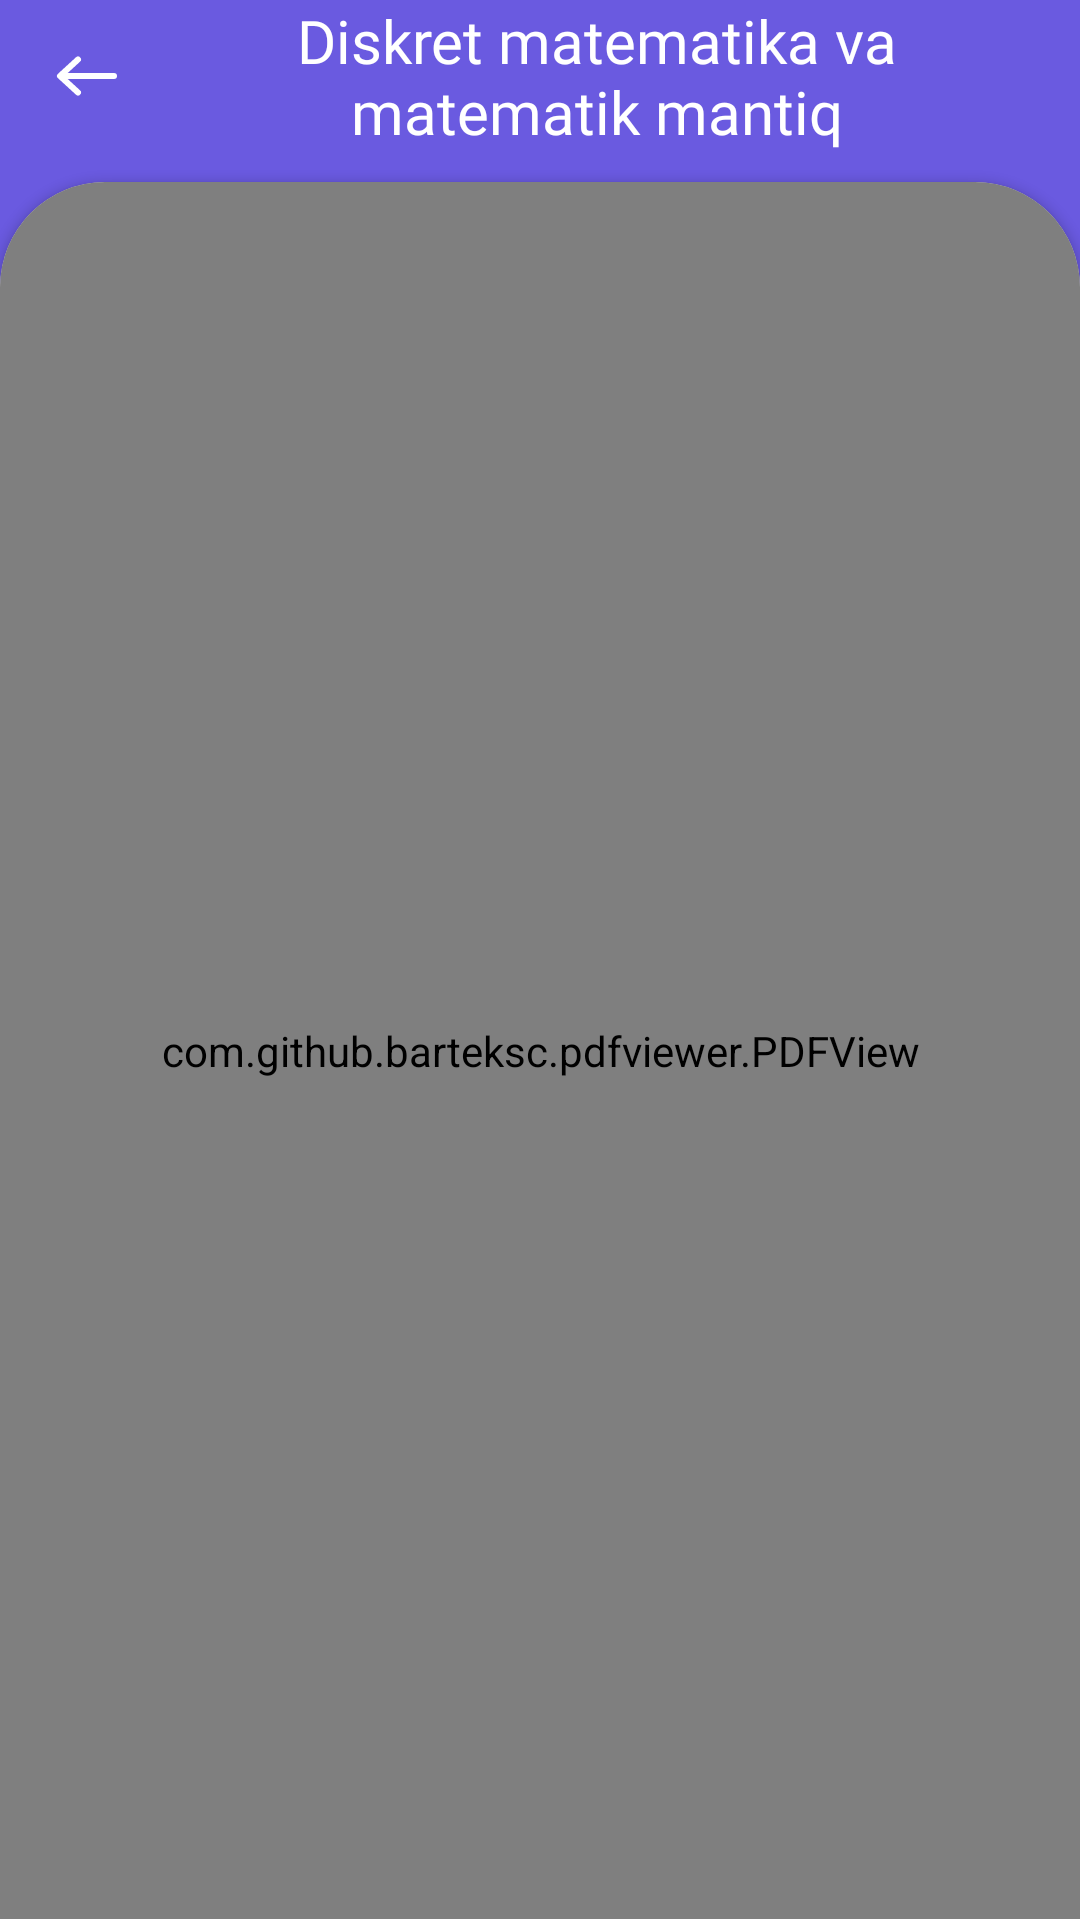

Icons on this 1080px x 1920px Android screen, each with the point to tap as (x,y):
back: (87,76)
